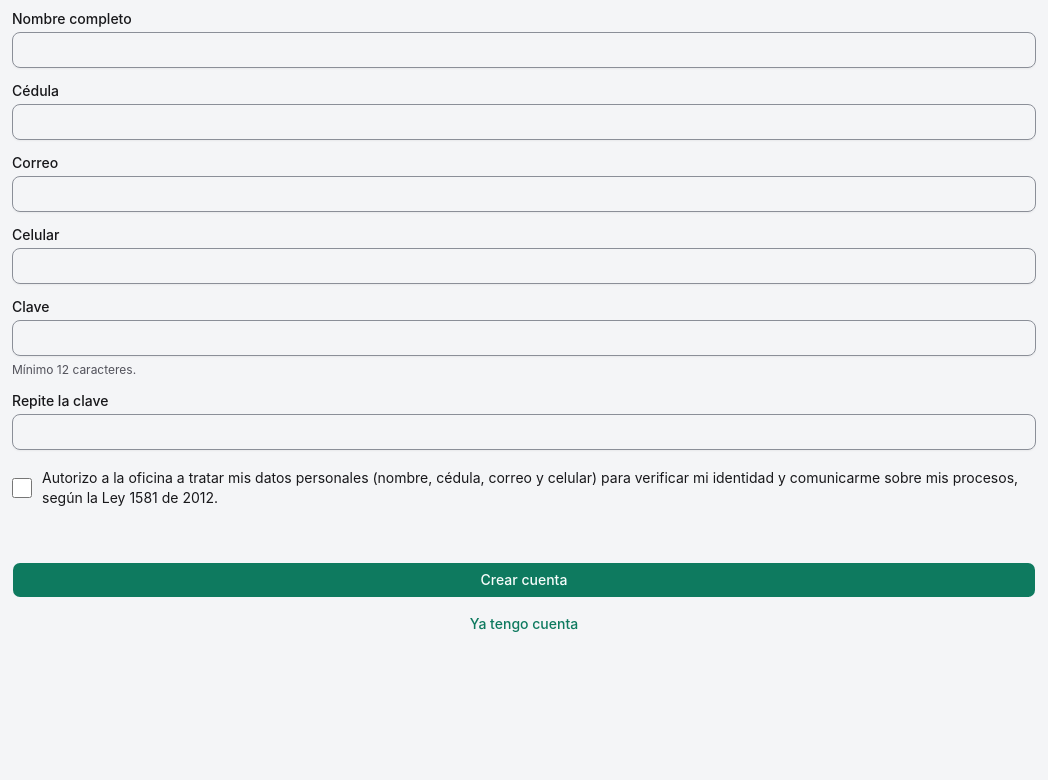
Test case: RegistroForm › shows the generic message from the server for a duplicate account
Step 1. Type "Prueba Smoke" into the field with id "nombre-completo" → (524, 50), box [12,32,1036,68]
Step 2. Type "1000000000" into the field labelled "Cédula" → (524, 122), box [12,104,1036,140]
Step 3. Type "prueba@example.com" into the field labelled "Correo" → (524, 194), box [12,176,1036,212]
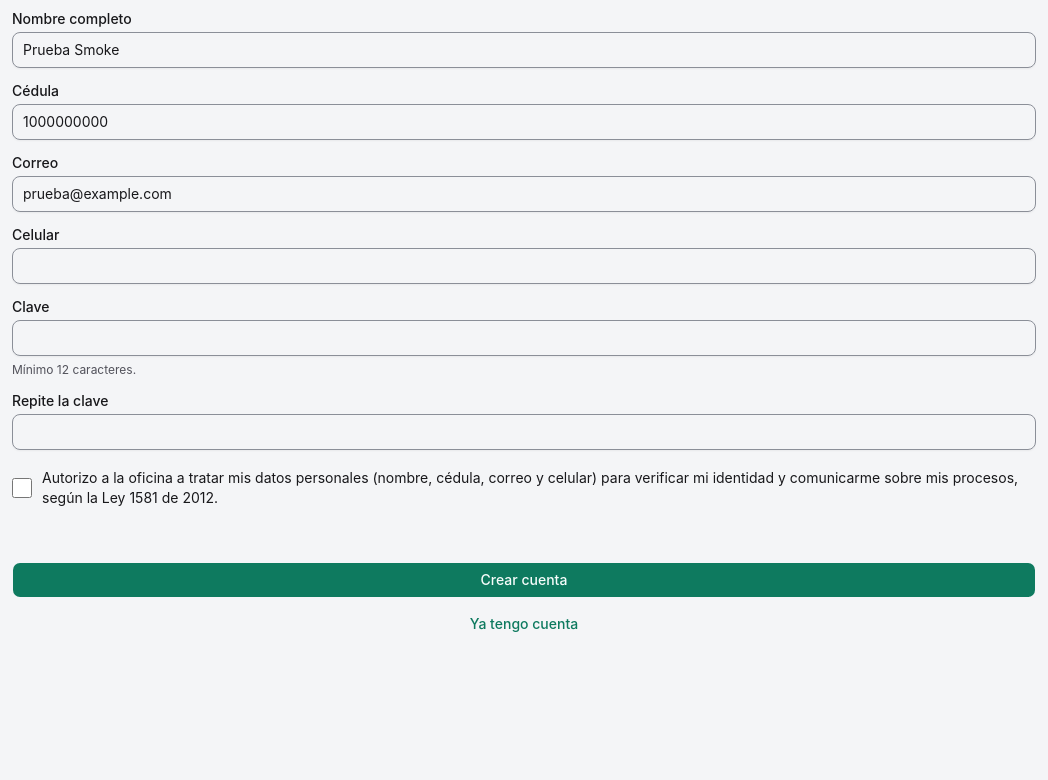
Step 4. Type "3001234567" into the field labelled "Celular" → (524, 266), box [12,248,1036,284]
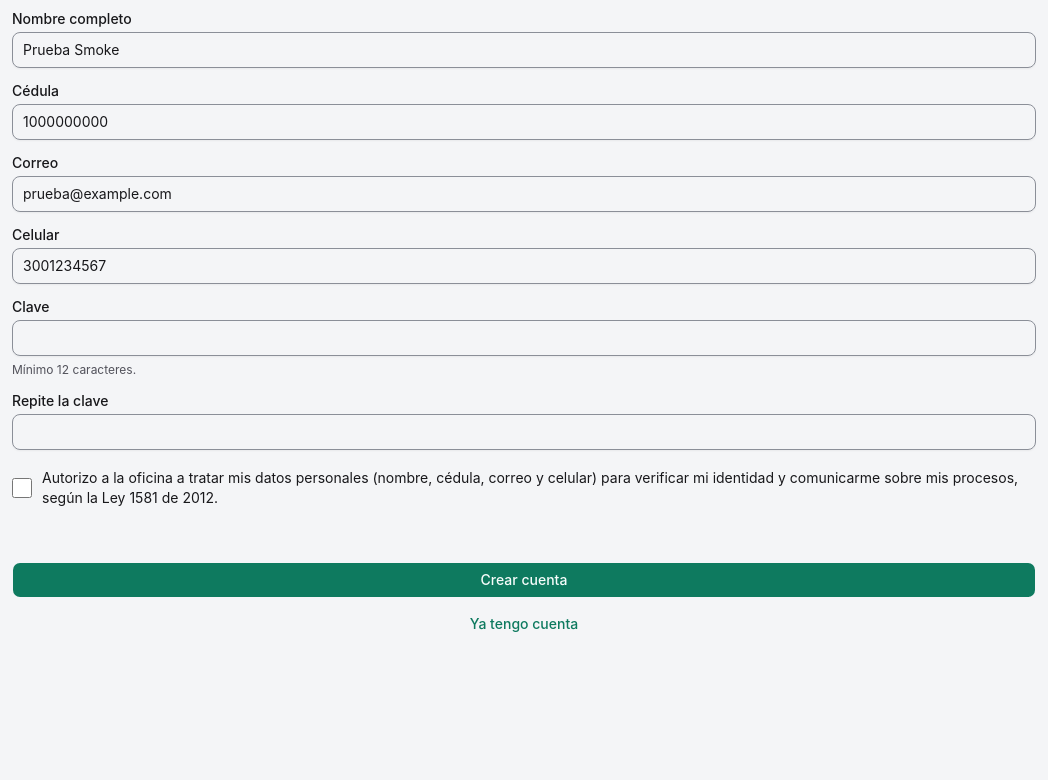
Step 5. Type "clave-de-prueba-larga" into the password field labelled "Clave" → (524, 338), box [12,320,1036,356]
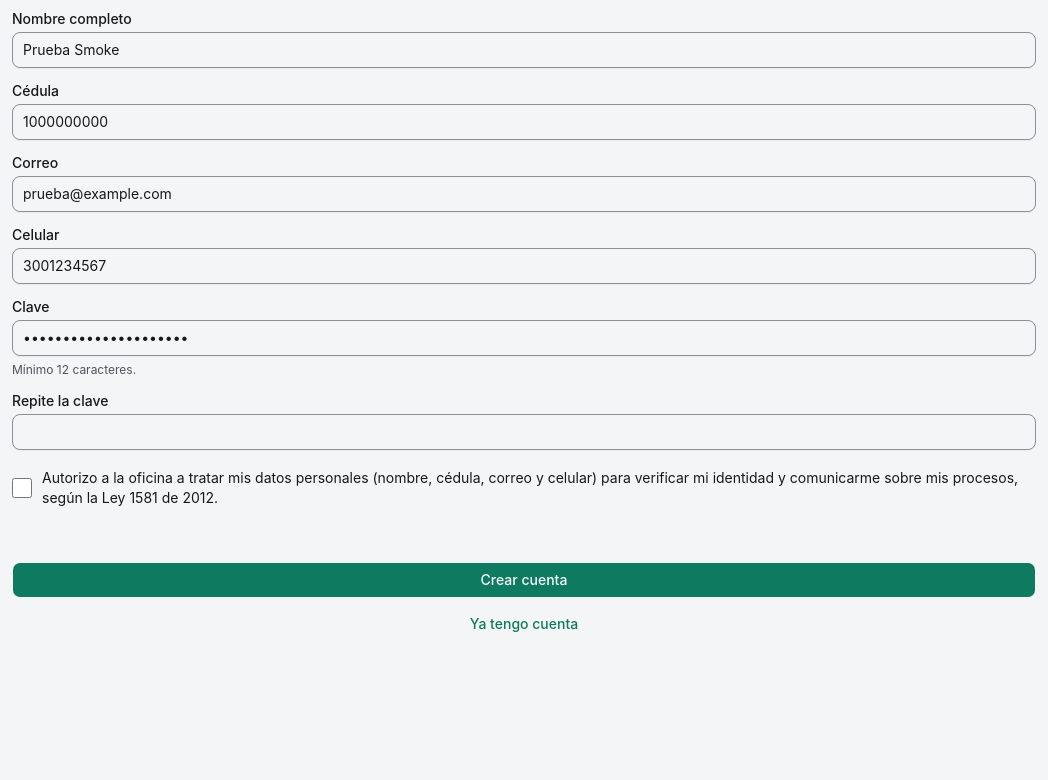
Step 6. Type "clave-de-prueba-larga" into the password field with id "confirmar-clave" → (524, 432), box [12,414,1036,450]
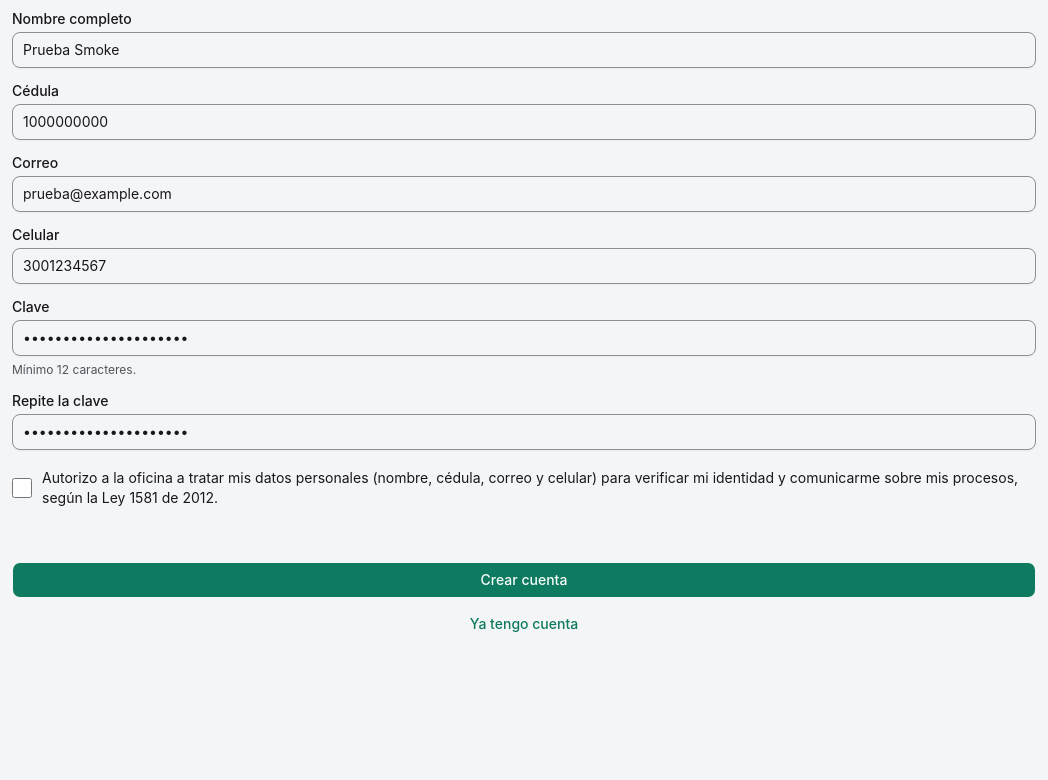
Step 7. Click the checkbox → (22, 488), box [12,478,32,498]
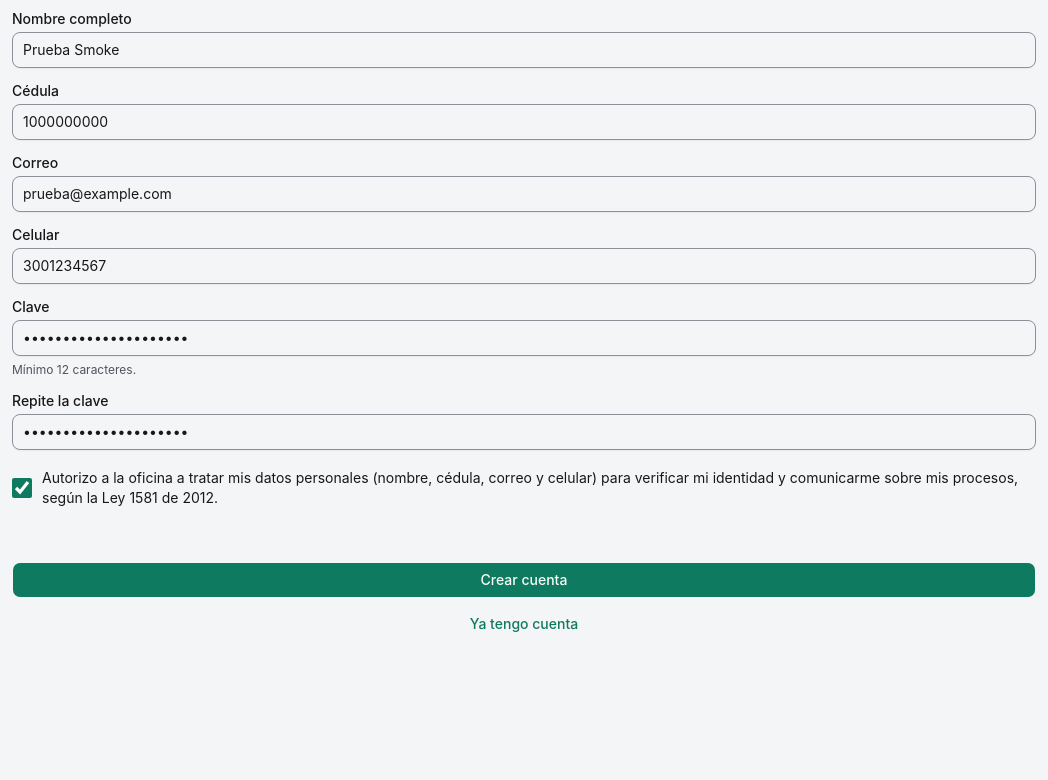
Step 8. Click the button "Crear cuenta" → (524, 580), box [12,562,1036,598]
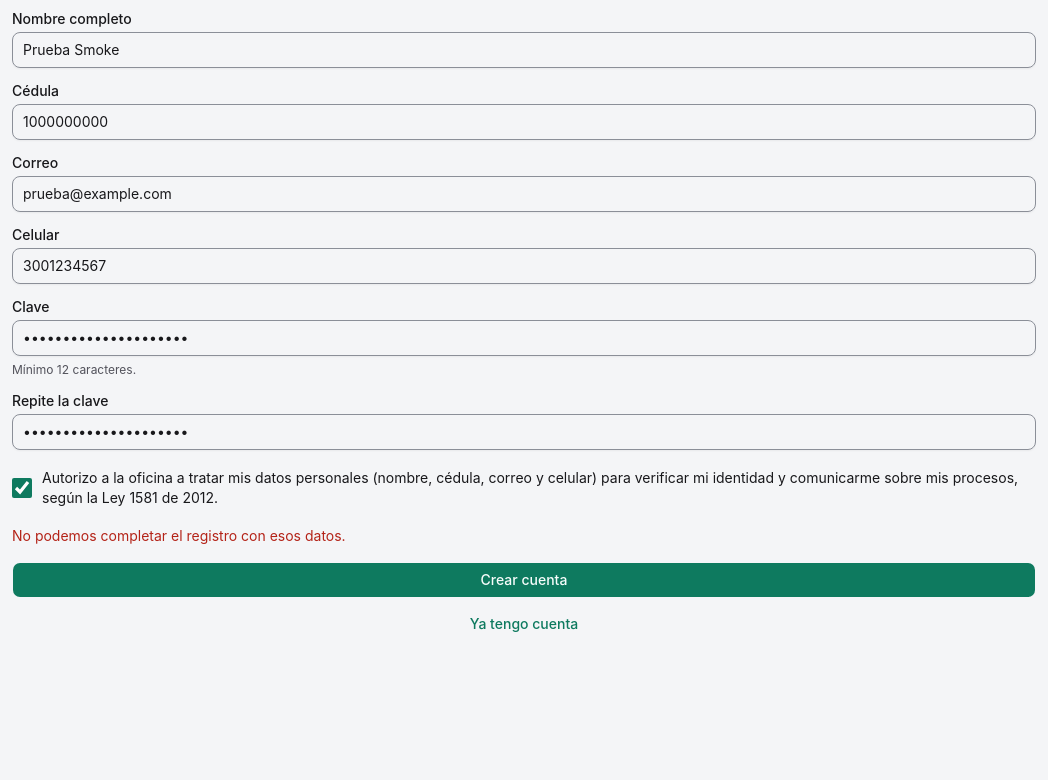
Now the message reads "No podemos completar el registro con esos datos.", box [12,527,346,544]
